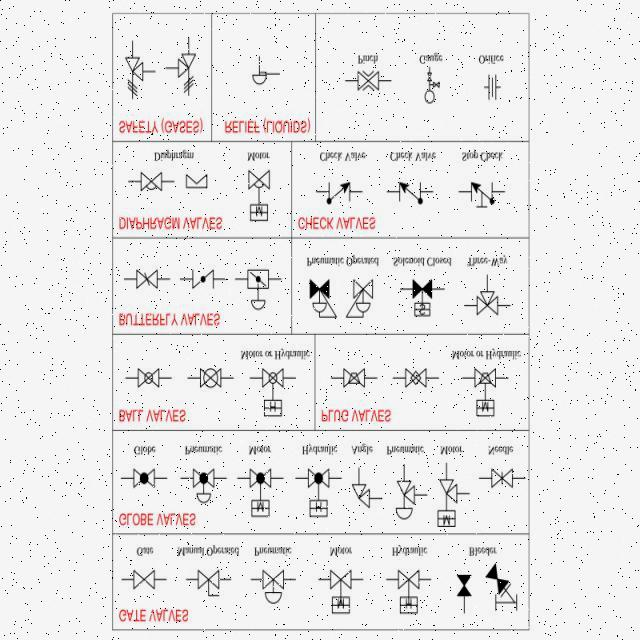3 Way Gate Valve: (468, 285, 501, 322)
Angle Valve: (352, 469, 379, 508)
BackPressure Regulator: (347, 277, 375, 324)
Ball Valve: (194, 359, 228, 404), (128, 364, 162, 398)
Bleeder Valve: (480, 556, 521, 624), (448, 565, 477, 616)
Butterfly Valve: (180, 260, 227, 299), (126, 268, 162, 300)
Check Valve: (314, 182, 356, 214), (386, 182, 433, 208)
Cock Valve: (190, 564, 230, 602)
Diaphragm Valve: (120, 170, 168, 206), (183, 172, 214, 194)
Gate Valve: (127, 564, 160, 596)
Gauge: (409, 58, 451, 110)
Globe Valve: (127, 458, 167, 499)
Hydraulic Operated Ball Valve: (252, 360, 294, 422)
Hydraulic Operated Gate Valve: (392, 563, 427, 618)
Hydraulic Operated Globe Valve: (296, 462, 336, 520)
Motor Operated Angle Valve: (436, 466, 464, 532)
Motor Operated Butterfly Valve: (241, 268, 275, 316)
Motor Operated Diaphragm Valve: (241, 159, 275, 229)
Motor Operated Gate Valve: (321, 567, 355, 620)
Motor Operated Globe Valve: (239, 462, 283, 526)
Motor Operated Plug Valve: (462, 368, 506, 424)
Needle Valve: (484, 466, 520, 496)
Orifice: (469, 73, 509, 119)
PRV: (228, 44, 292, 104)
PSV: (146, 38, 206, 112), (118, 48, 150, 104)
Pinch Valve: (329, 68, 396, 101)
Plug Valve: (392, 366, 434, 400), (332, 364, 369, 394)
Pneumatic-Diaphragm Angle Valve: (382, 470, 419, 522)
Pneumatic-Diaphragm Gate Valve: (256, 560, 290, 608)
Pneumatic-Diaphragm Globe Valve: (190, 463, 217, 508)
Pressure Regulator: (304, 274, 339, 330)
Solenoid Closed Valve: (402, 276, 443, 327)
Stop Valve: (452, 170, 508, 220)
